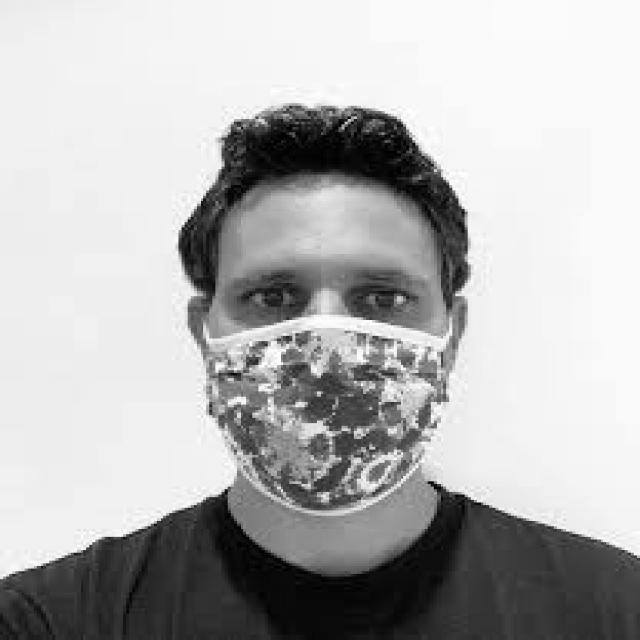fake: (198, 325, 464, 527)
real: (204, 171, 450, 524)
